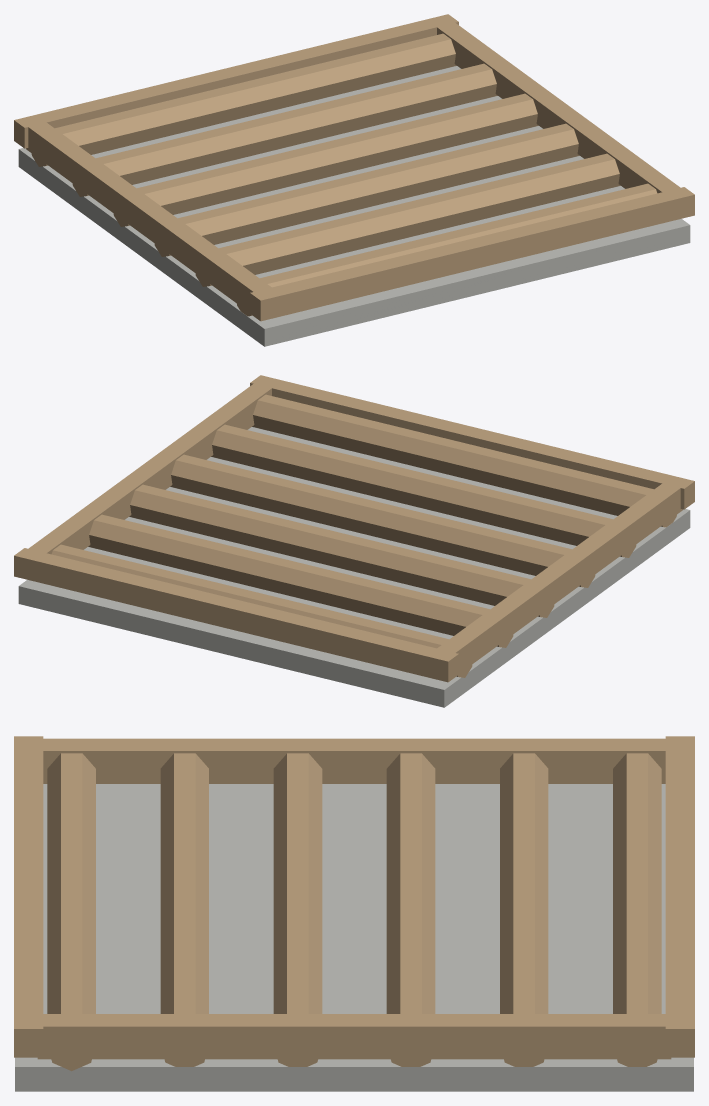
File: wipe-day-survival-island-twig-foundation-7df690db__27493.glb
The picture shows the model from 3 angles, top to bottom: view 1: azimuth 30°, elevation 25°; view 2: azimuth 150°, elevation 25°; view 3: azimuth 270°, elevation 25°; orthographic projection. The views are drawn at different scales.
Visible parts, largest first — view 1: twig-foundation; view 2: twig-foundation; view 3: twig-foundation.
Boxes of the visible parts, bbox=[...] form: twig-foundation: bbox=[14, 14, 694, 346]; twig-foundation: bbox=[14, 375, 694, 707]; twig-foundation: bbox=[14, 736, 694, 1091].
Size of the model in its own units: 3.06 by 0.3201 by 3.01.
